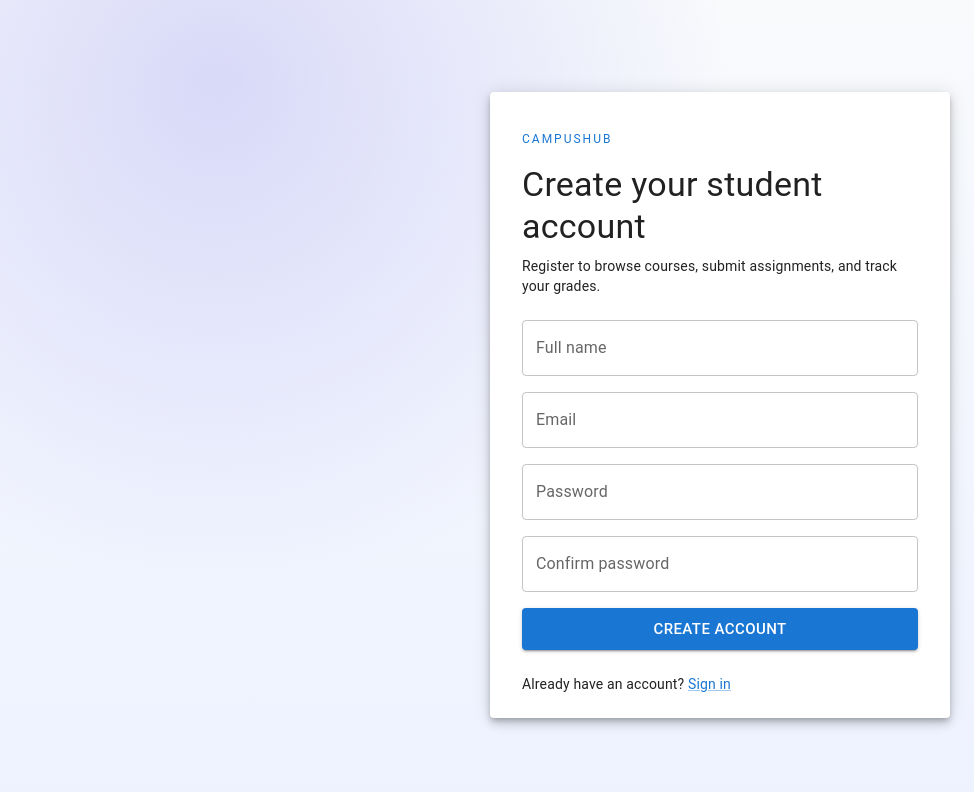
Test: RegisterPage › validates required fields before submitting
Click the button "Create account" at (720, 629), box [522,608,918,650]
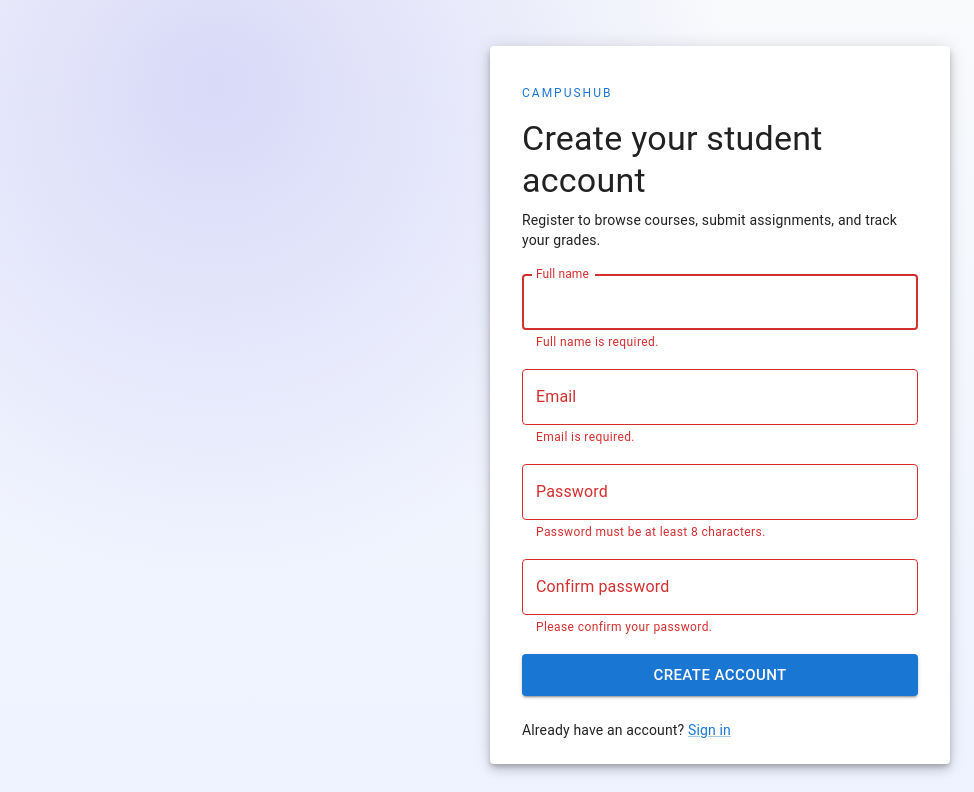
Expected: the text "Full name is required." is shown, [536,335,659,349]
Expected: the text "Email is required." is shown, [536,430,635,444]
Expected: the text "Password must be at least 8 characters." is shown, [536,525,766,539]
